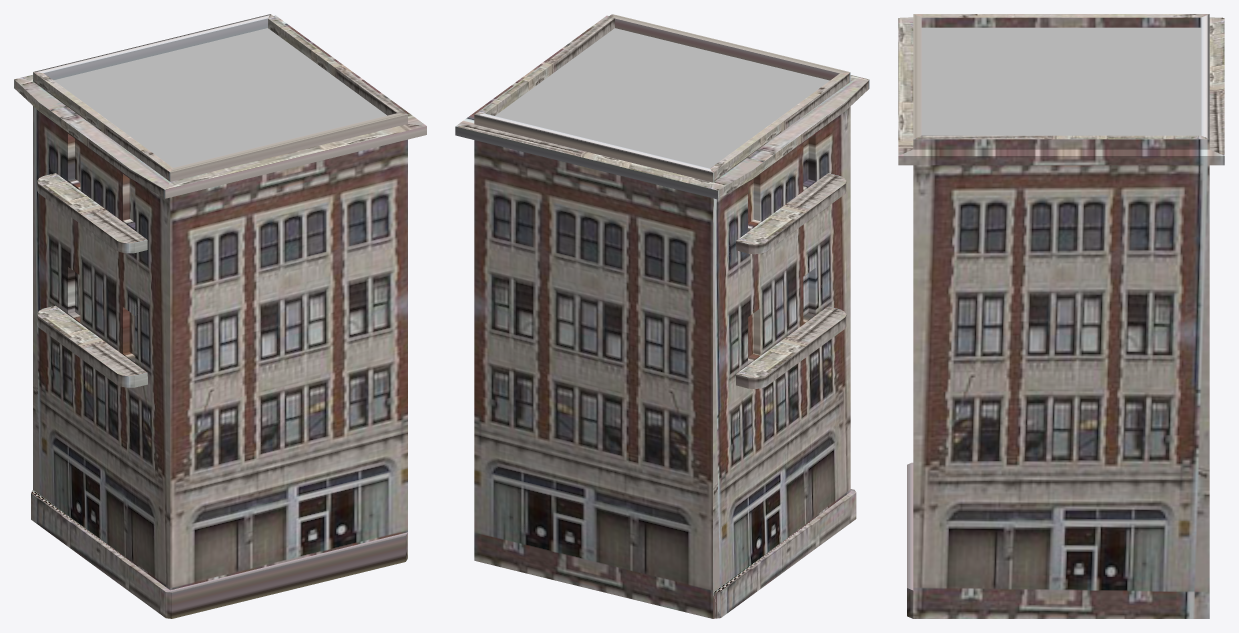
File: bldg_01.FBX
3 views of the same model, side by side, from view 1: azimuth 30°, elevation 25°; view 2: azimuth 150°, elevation 25°; view 3: azimuth 270°, elevation 25° (orthographic). The views are drawn at different scales.
Visible parts, largest first — view 1: building_01; view 2: building_01; view 3: building_01.
Part boxes in pixels (x1,y1,x2,y2): building_01: [14, 14, 426, 618]; building_01: [455, 14, 869, 618]; building_01: [898, 14, 1224, 618].
Size of the model in its own units: 476 by 738 by 455.
